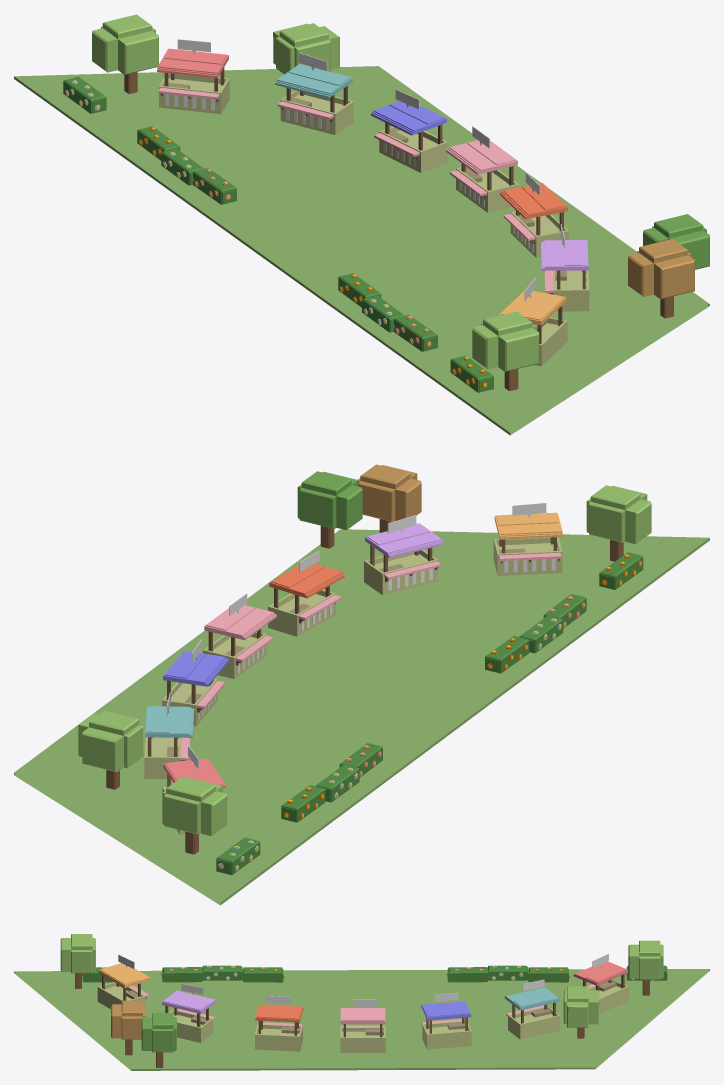
Rendered from yatai - コピー.glb.
3 renders of one model, top to bottom at view 1: azimuth 30°, elevation 25°; view 2: azimuth 150°, elevation 25°; view 3: azimuth 270°, elevation 25°, orthographic. The views are drawn at different scales.
Visible parts, largest first — view 1: 立方体.002, yata2, yata1, yata3, 立方体.005, 立方体.006, 立方体.003, yata4, yata5, yata6, 立方体.131, yata7 (+9 smaller); view 2: 立方体.002, yata6, yata7, yata5, 立方体.131, 立方体.004, 立方体.006, 立方体.005, yata4, 立方体.003, yata3, yata2 (+9 smaller); view 3: 立方体.002, yata2, yata3, yata5, yata4, yata6, yata7, yata1, 立方体.131, 立方体.006, 立方体.004, 立方体.005 (+8 smaller).
Part boxes in pixels (<box>): 立方体.002: <box>14,66,709,435</box>; yata2: <box>275,64,353,134</box>; yata1: <box>157,48,229,114</box>; yata3: <box>371,101,447,172</box>; 立方体.005: <box>472,311,539,390</box>; 立方体.006: <box>92,14,158,93</box>; 立方体.003: <box>628,239,694,318</box>; yata4: <box>446,140,518,212</box>; yata5: <box>500,183,568,257</box>; yata6: <box>540,239,589,311</box>; 立方体.131: <box>273,23,339,90</box>; yata7: <box>498,291,567,366</box>; 立方体.002: <box>14,529,709,905</box>; yata6: <box>364,523,443,595</box>; yata7: <box>493,512,562,575</box>; yata5: <box>268,563,344,636</box>; 立方体.131: <box>78,711,143,789</box>; 立方体.004: <box>297,471,362,548</box>; 立方体.006: <box>162,777,227,854</box>; 立方体.005: <box>586,485,651,561</box>; yata4: <box>203,605,276,679</box>; 立方体.003: <box>357,464,421,532</box>; yata3: <box>162,650,228,726</box>; yata2: <box>144,706,194,778</box>; 立方体.002: <box>14,969,709,1070</box>; yata2: <box>504,987,560,1039</box>; yata3: <box>421,1001,471,1049</box>; yata5: <box>255,1004,303,1051</box>; yata4: <box>340,1008,385,1052</box>; yata6: <box>162,990,216,1042</box>; yata7: <box>97,963,151,1008</box>; yata1: <box>573,961,628,1014</box>; 立方体.131: <box>563,986,599,1038</box>; 立方体.006: <box>628,940,663,995</box>; 立方体.004: <box>141,1013,176,1067</box>; 立方体.005: <box>60,934,95,988</box>.
Size of the model in its own units: 30.06 by 6.71 by 84.53.
